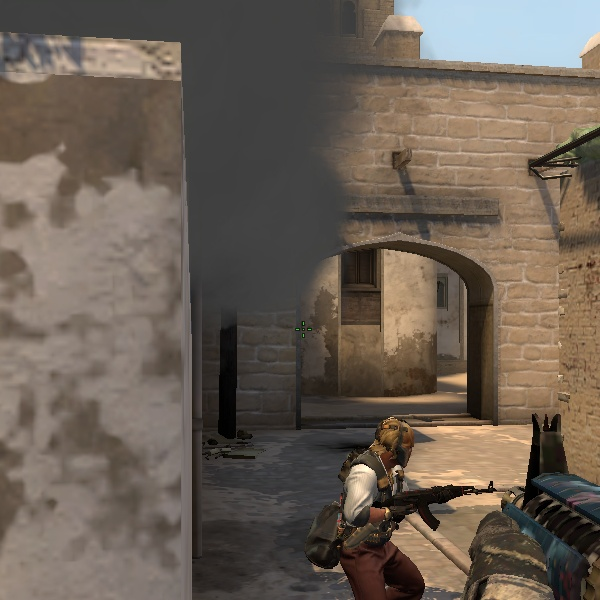t_body: (295, 407, 472, 599)
t_head: (364, 408, 425, 471)
